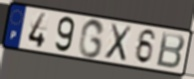4: (26, 12, 46, 50)
6: (133, 29, 157, 67)
9: (54, 16, 76, 53)
B: (155, 30, 187, 71)
G: (77, 18, 106, 60)
X: (103, 22, 134, 64)
